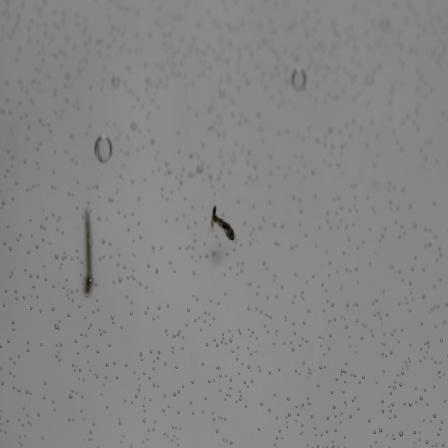Jentik-Nyamuk: (79, 205, 98, 300), (207, 203, 239, 246)
